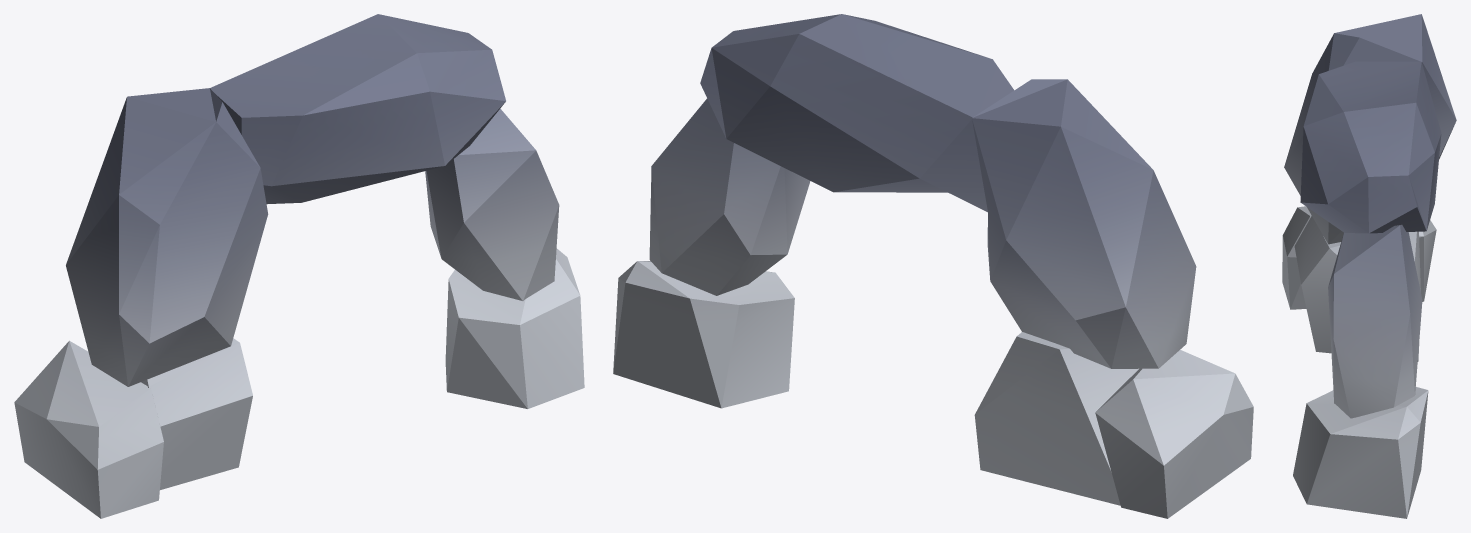
File: Terrain_Stage2_Wall_2.fbx
The picture shows the model from 3 angles, left to right: view 1: azimuth 30°, elevation 25°; view 2: azimuth 150°, elevation 25°; view 3: azimuth 270°, elevation 25°; orthographic projection. The views are drawn at different scales.
Visible parts, largest first — view 1: terrain_wall_401_4_LOD1; view 2: terrain_wall_401_4_LOD1; view 3: terrain_wall_401_4_LOD1.
Boxes of the visible parts, box(x1,y1,x2,y2) form: terrain_wall_401_4_LOD1: box(14, 14, 584, 518); terrain_wall_401_4_LOD1: box(613, 14, 1253, 518); terrain_wall_401_4_LOD1: box(1282, 14, 1456, 518).
Bounding box in the file's own units: 915 × 589 × 277.
1 material, 1 textured.
